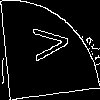V: (24, 24, 70, 63)
